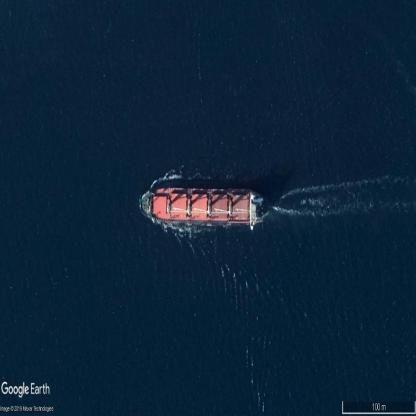ship: (141, 186, 269, 228)
